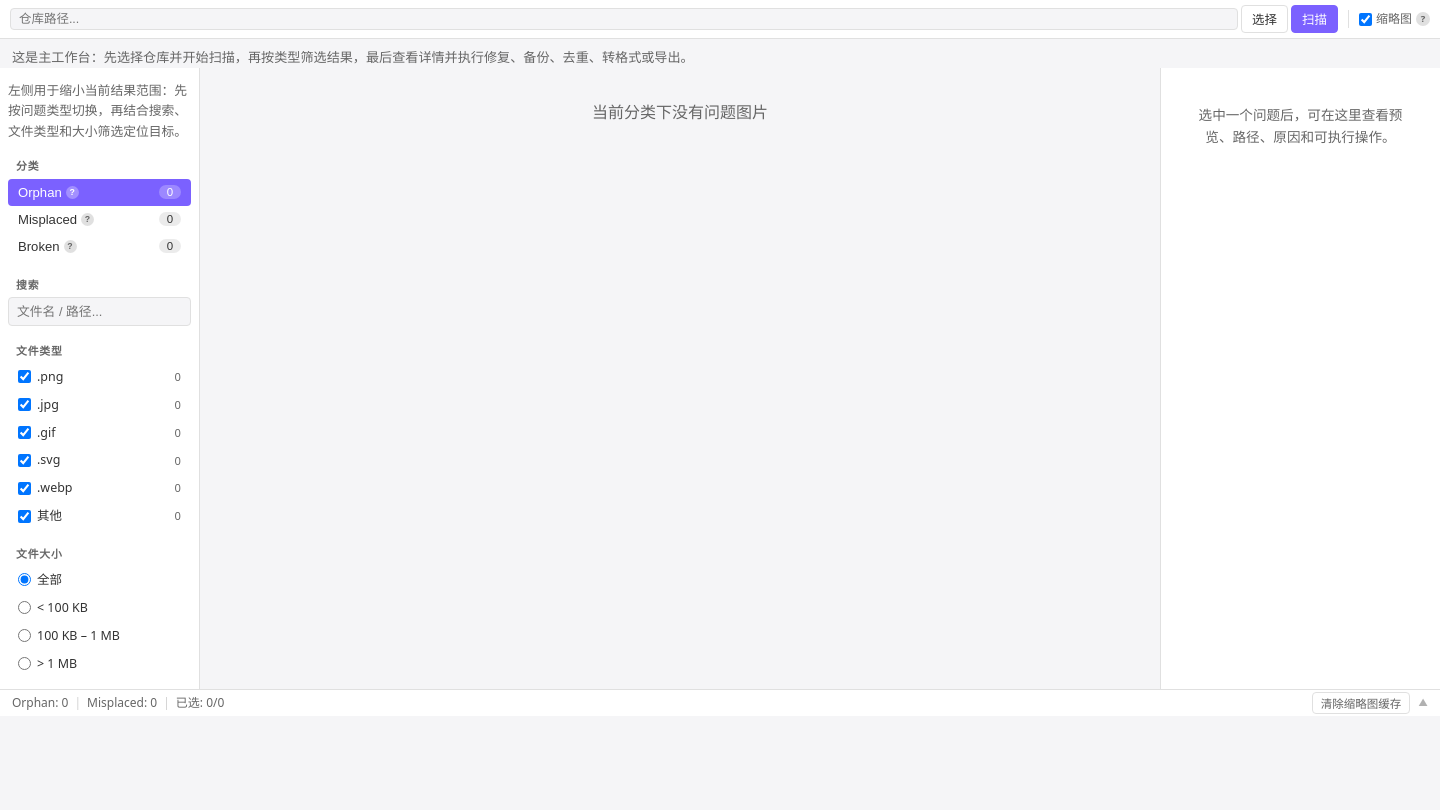
Test: requires confirmation before execute
Type "D:/vault" into the field labelled "仓库路径" at (624, 19), box [10,8,1238,30]
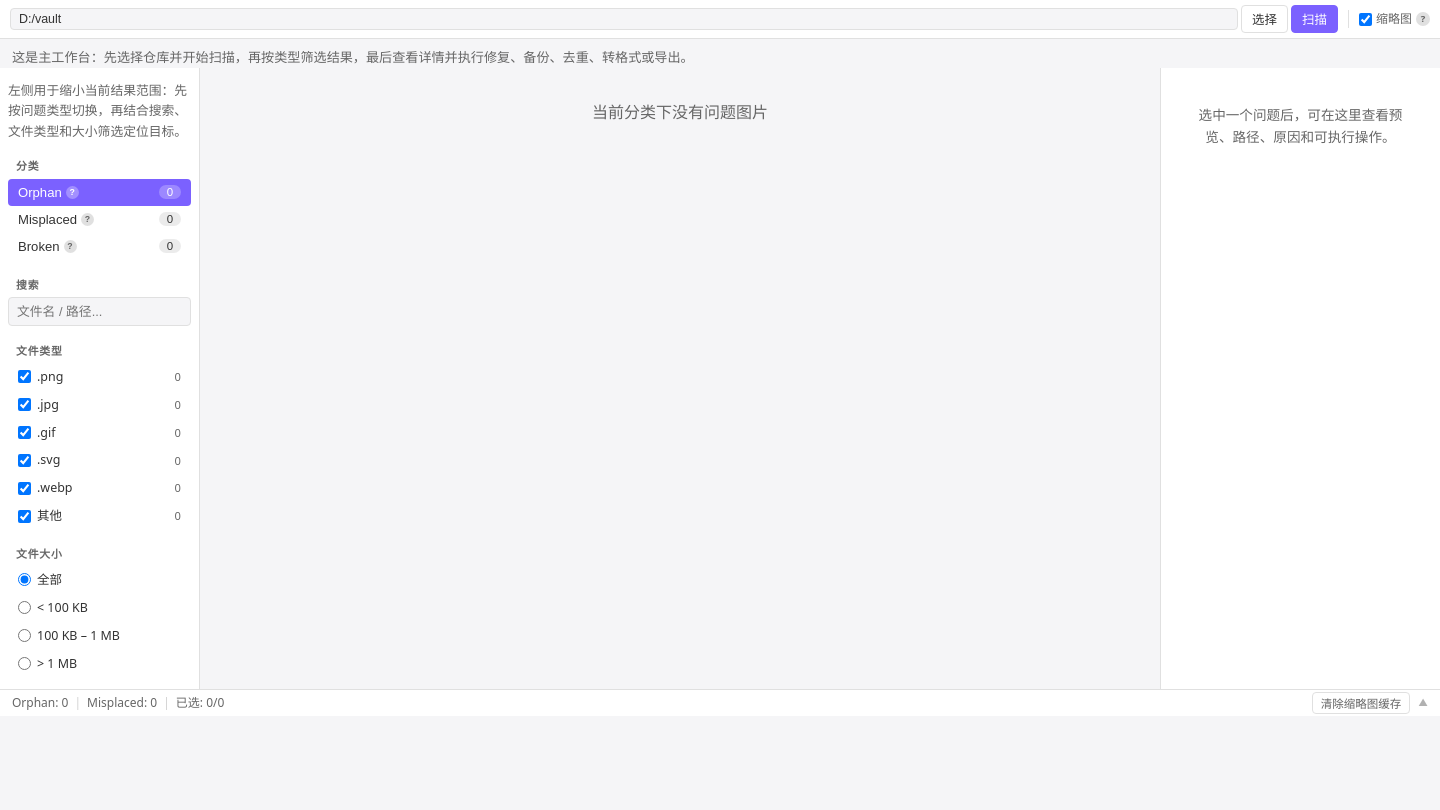
Click the button "扫描" at (1314, 19), box [1291,5,1338,33]
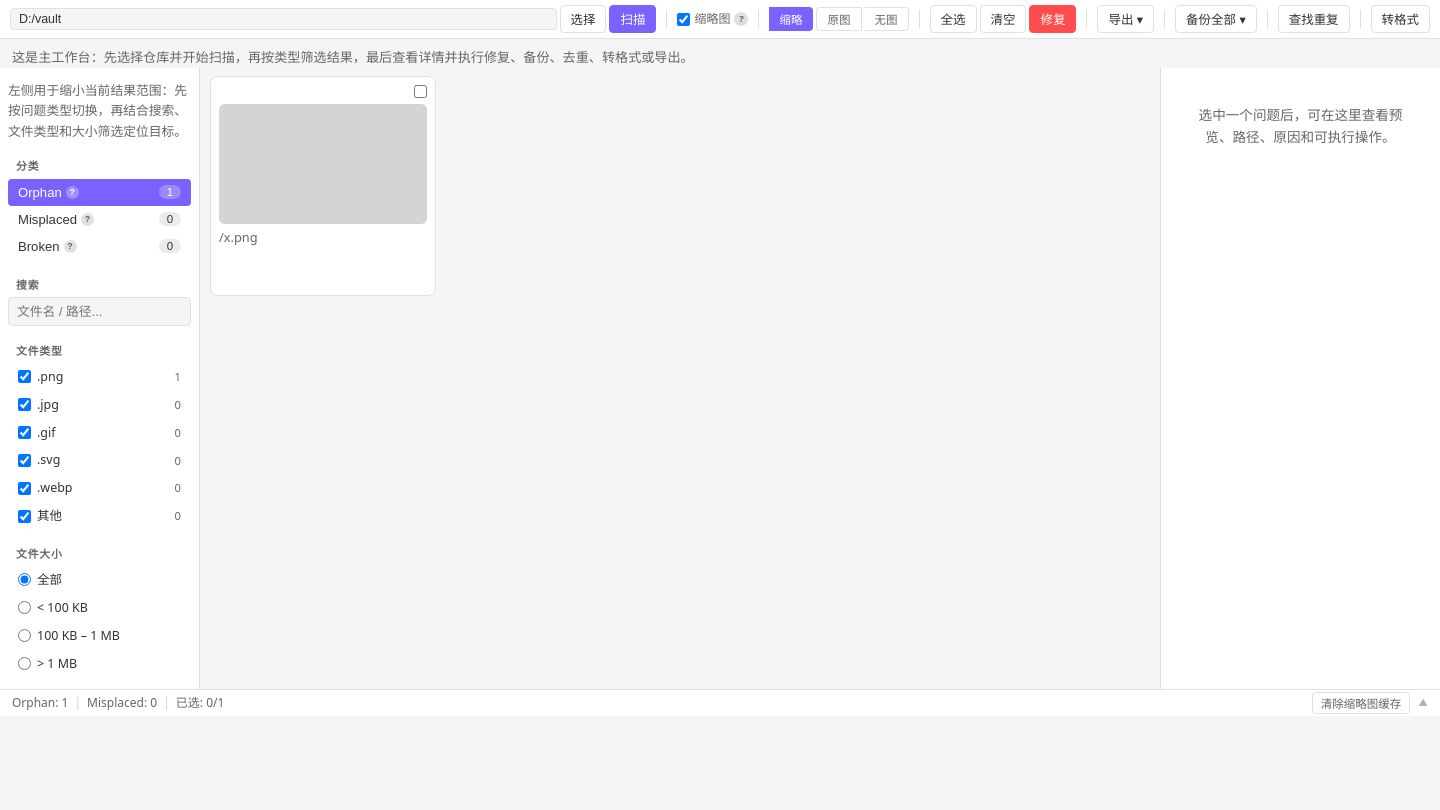
Check: the text "确认执行修复" is not shown
Click the button "修复" at (1053, 19), box [1030,5,1076,33]
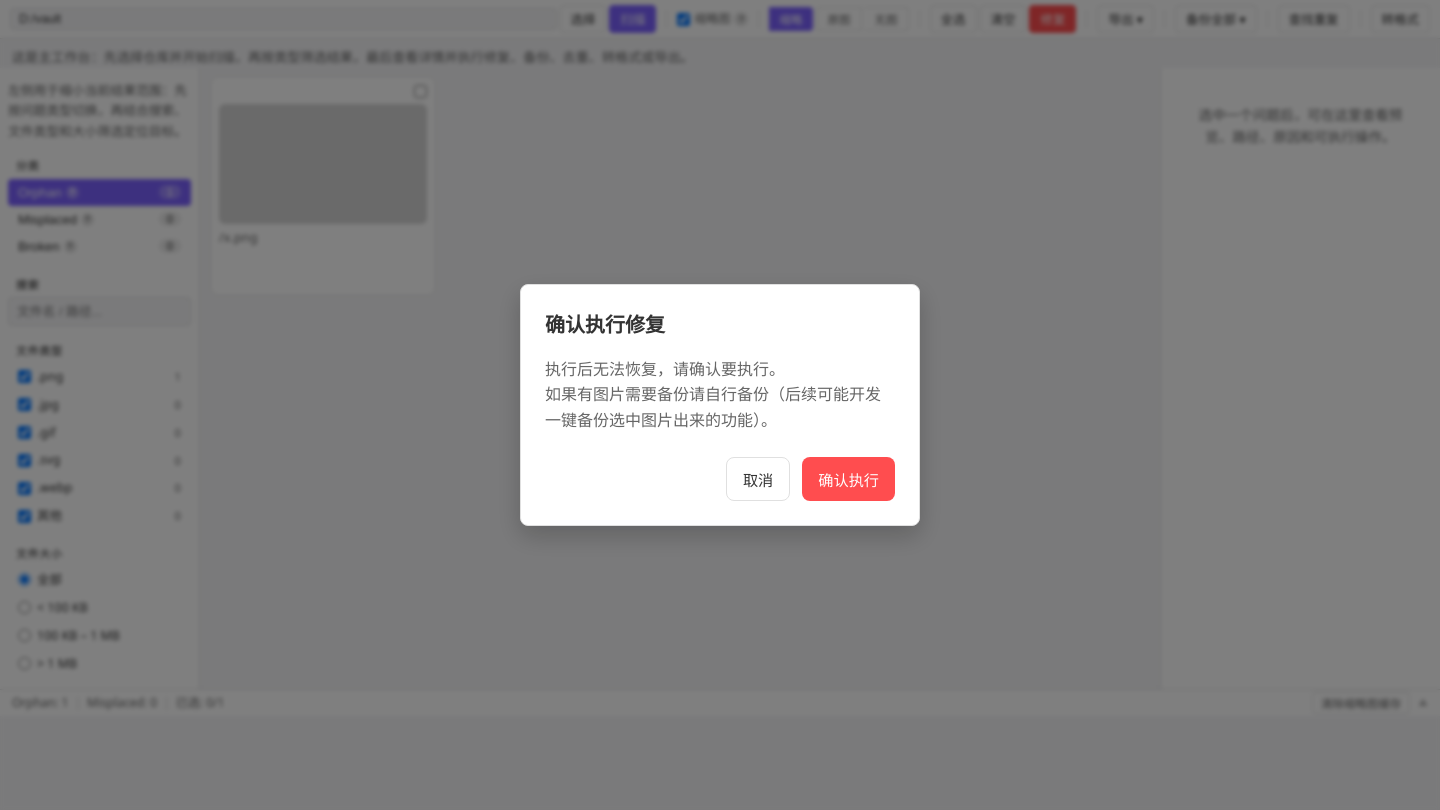
Check: the heading "确认执行修复" is shown, box [545,311,665,338]
